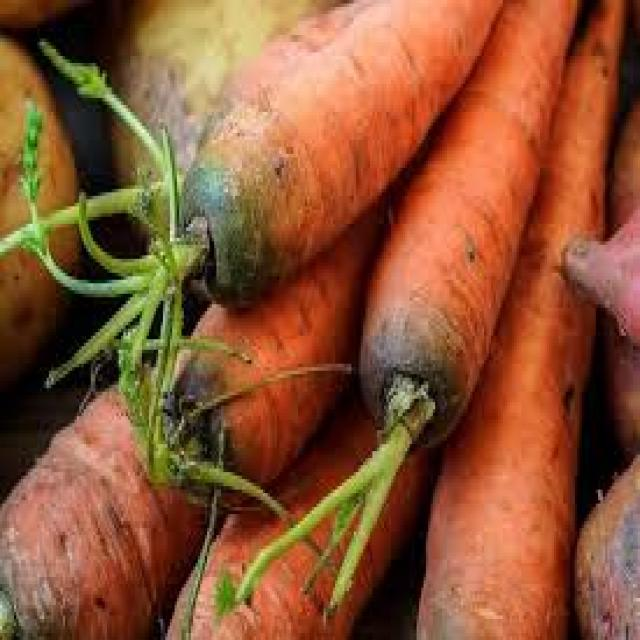Stale_Carrot: (184, 0, 497, 319), (338, 24, 571, 445), (144, 325, 296, 532)
